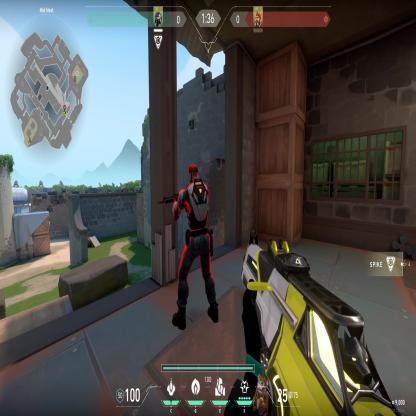enemy: (164, 160, 220, 334)
